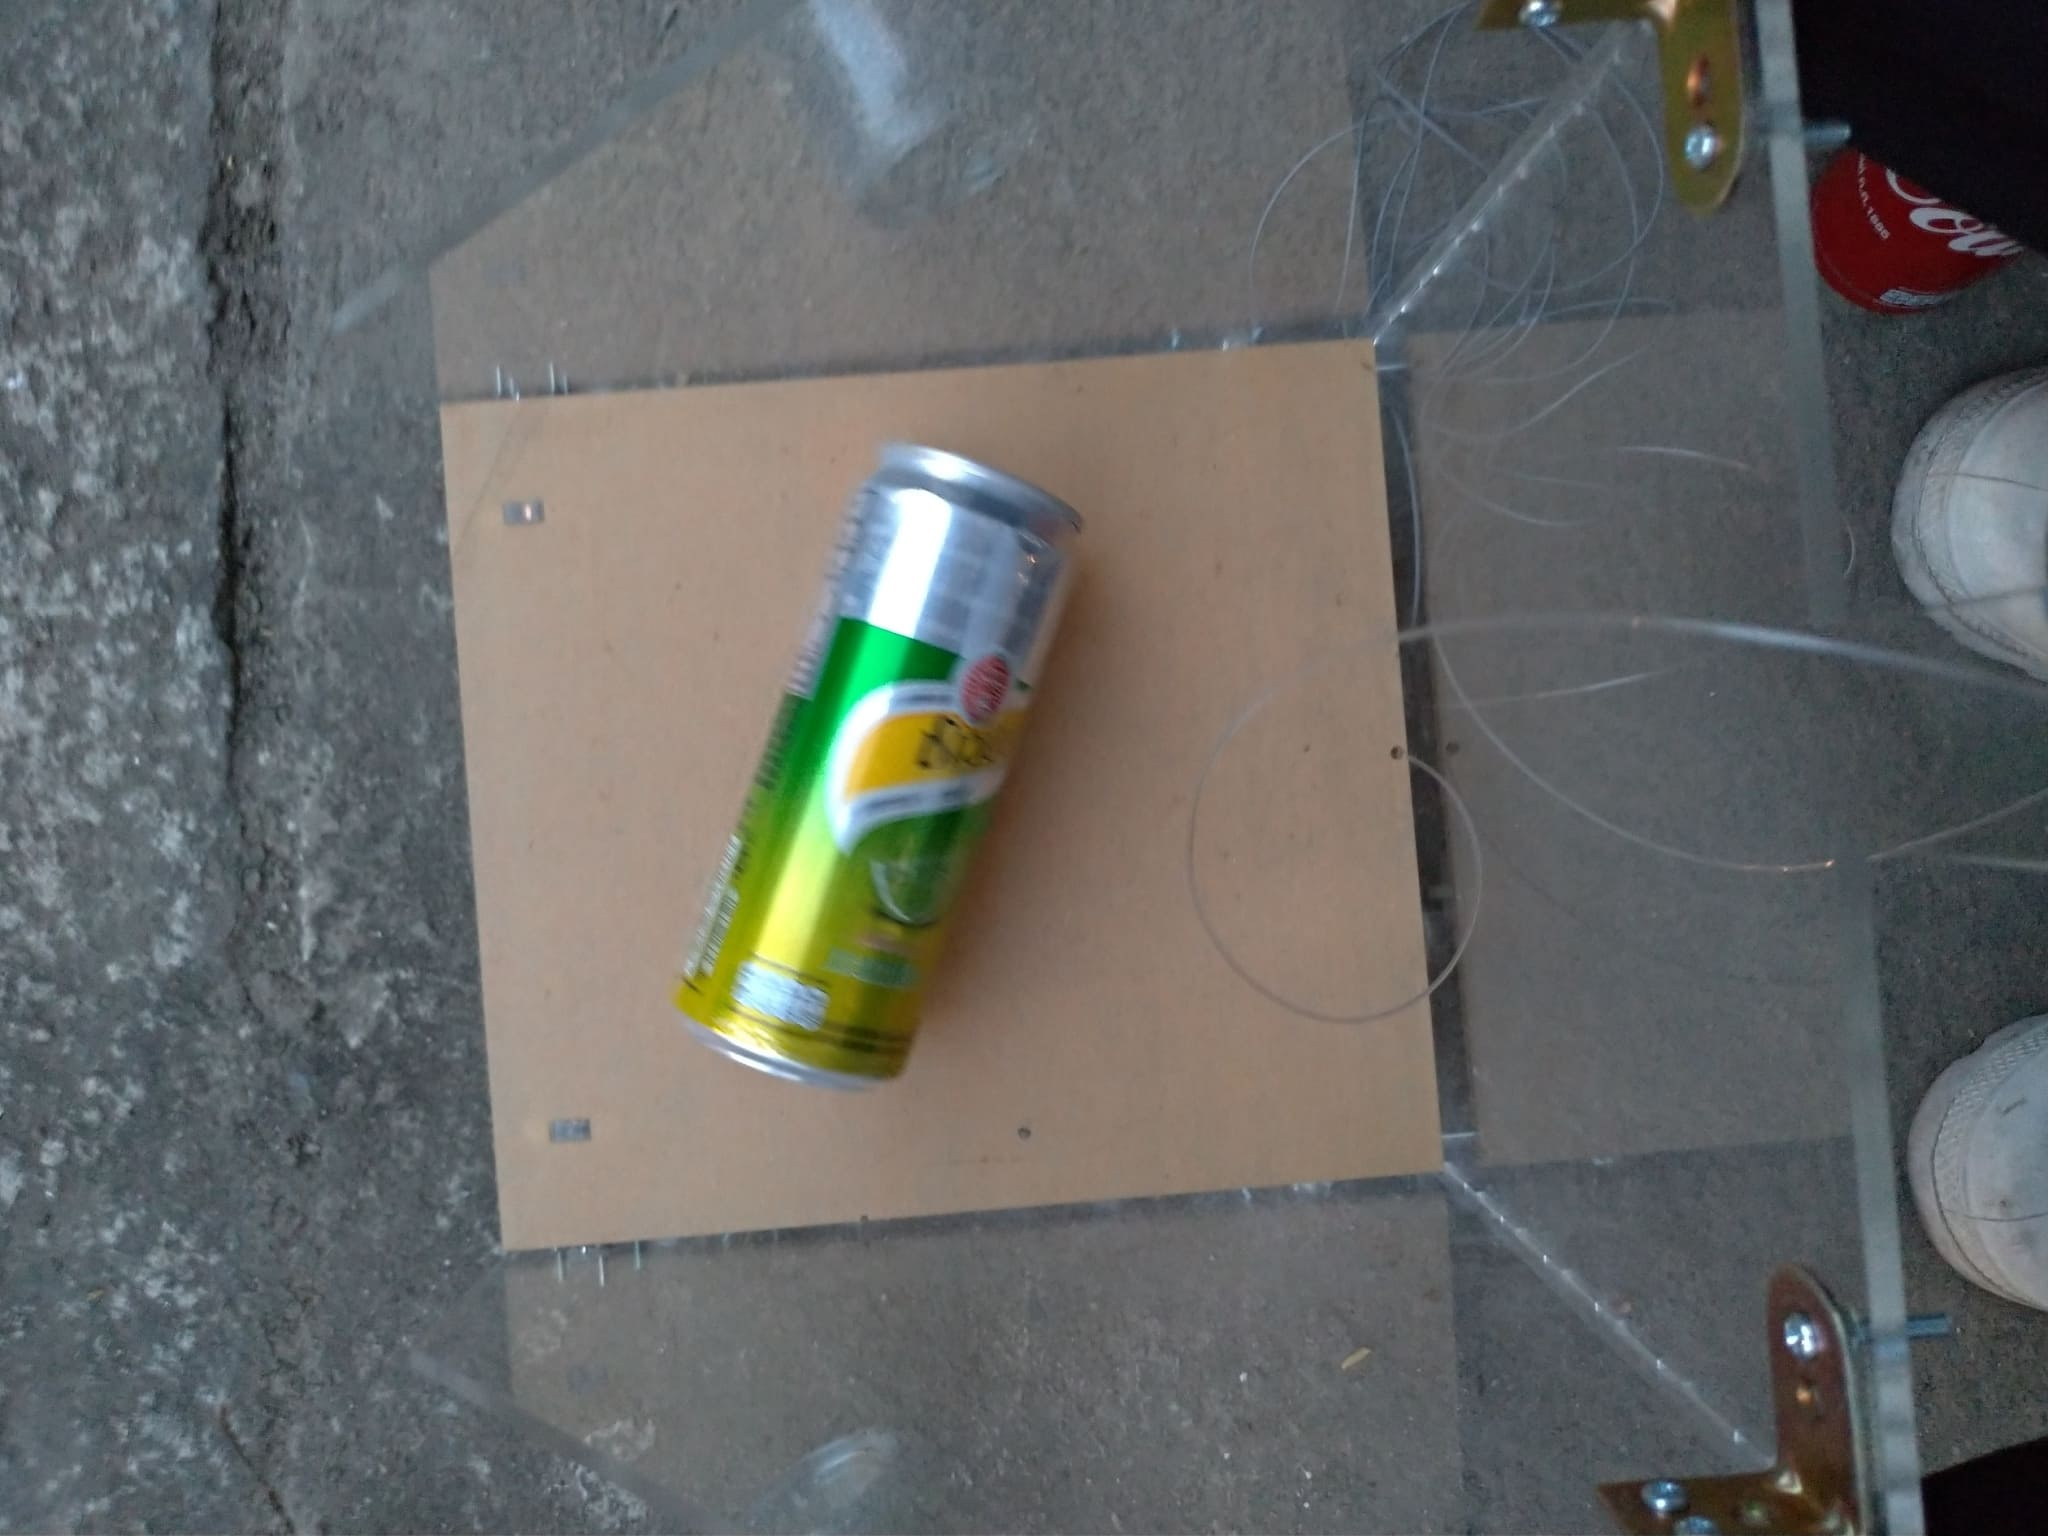AlCan: (664, 444, 1085, 1087), (1796, 118, 2038, 324)
